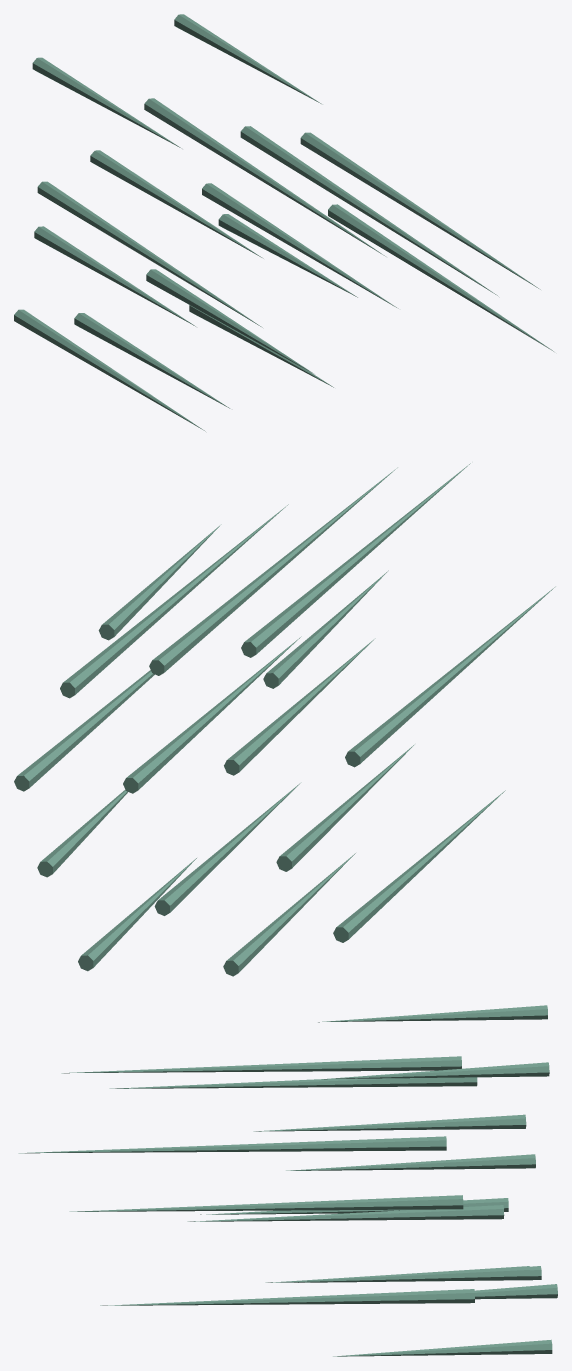
File: VP_PROTOTYPE_REED.glb
3 views of the same model, one above another, from view 1: azimuth 30°, elevation 25°; view 2: azimuth 150°, elevation 25°; view 3: azimuth 270°, elevation 25° (orthographic). The views are drawn at different scales.
Parts seen in each view (by area): view 1: world; view 2: world; view 3: world.
Boxes of the visible parts, bbox=[...] form: world: bbox=[14, 14, 553, 431]; world: bbox=[14, 463, 555, 976]; world: bbox=[18, 1005, 557, 1356].
Bounding box in the file's own units: 1.19 × 1.07 × 1.87.
